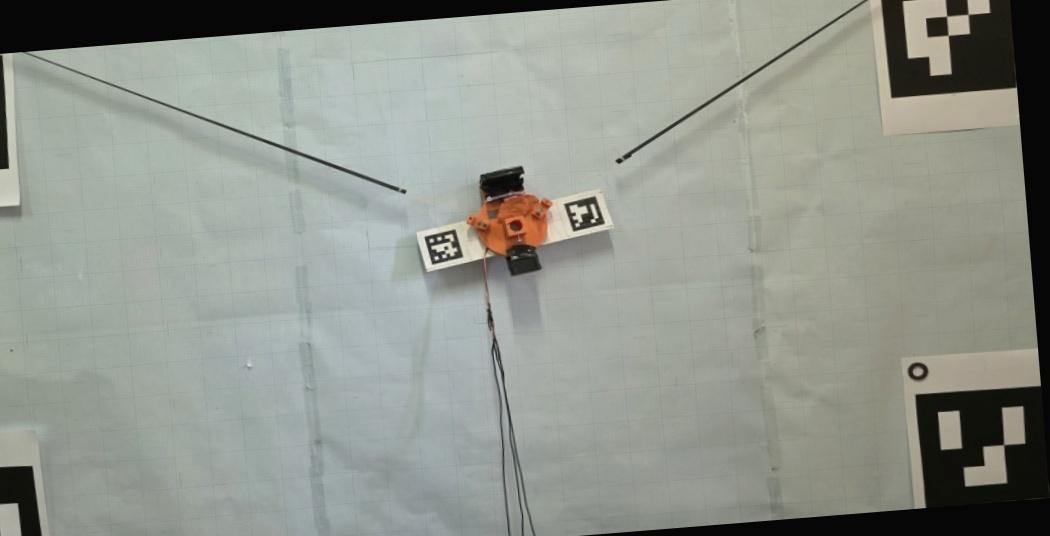robot: (466, 166, 552, 275)
